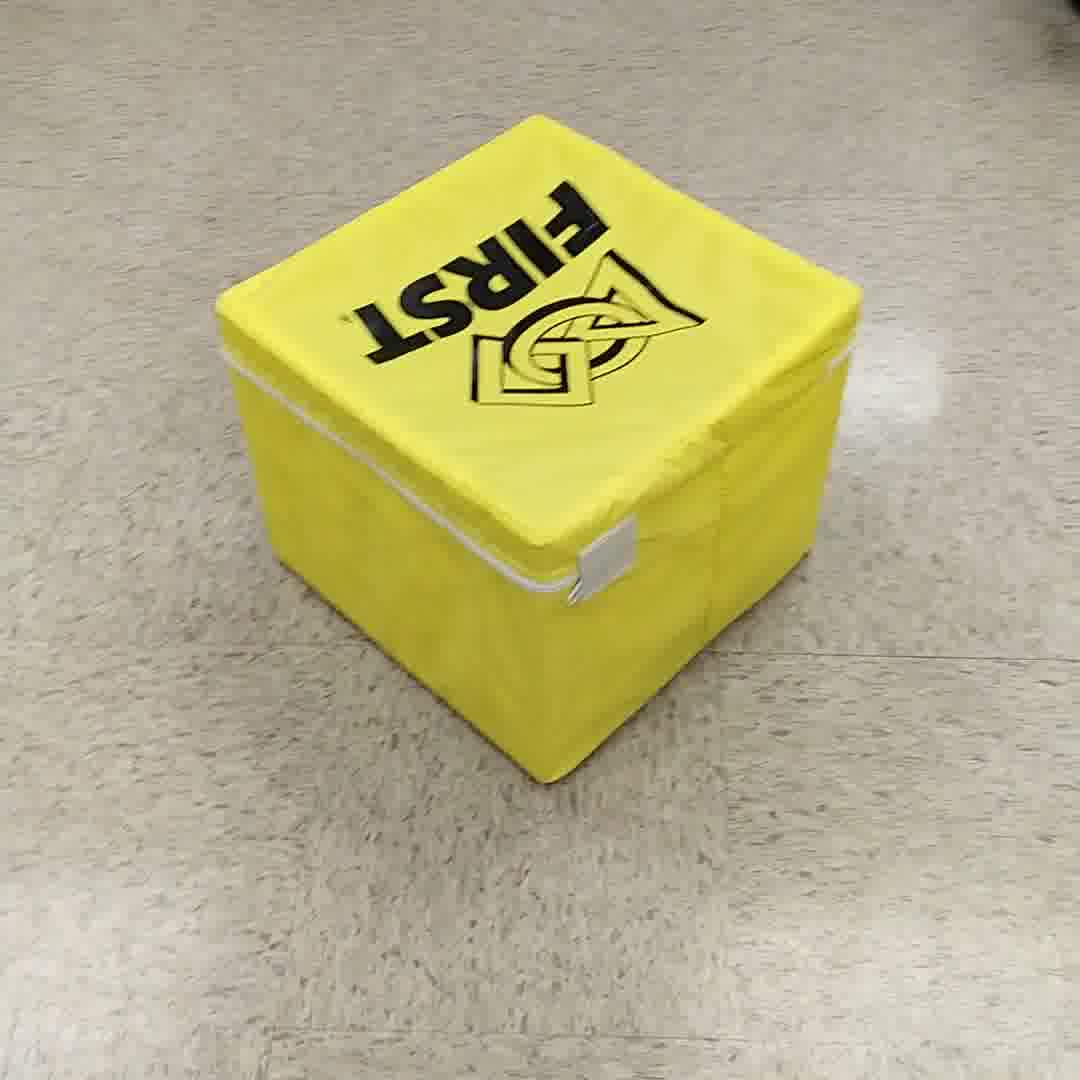box: (187, 119, 867, 772)
